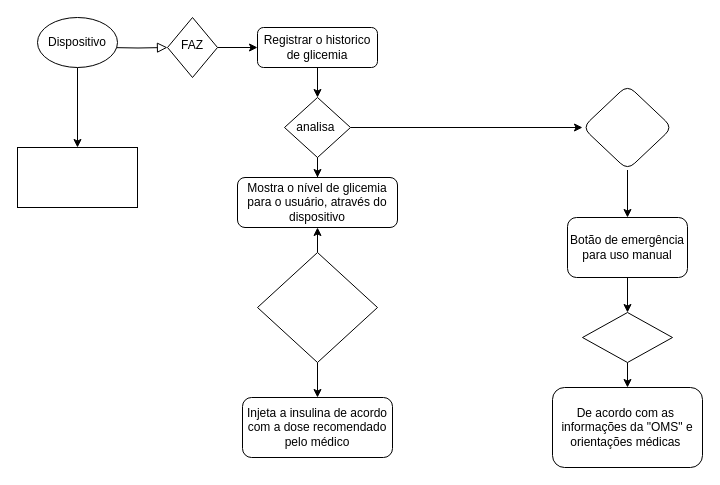
Image size: 720x485. Some labels were removed from this diagram. The shapes that lost their labels are listed below. From the top down, each one's box as (x1, y1, x2, y2) in pixels, then its label:
(582, 84, 672, 170): Em caso de ERRO
(16, 146, 138, 208): Baterias reservas para caso de falha
(256, 252, 378, 362): Em caso de não ter error de funcionalidade
(582, 312, 672, 362): Injeta
